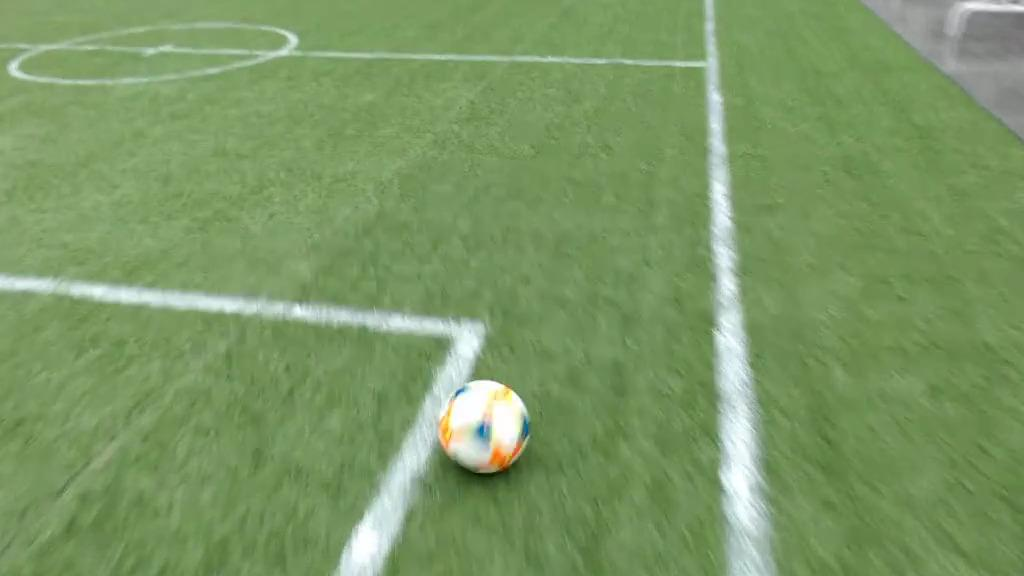ball: (437, 378, 530, 477)
